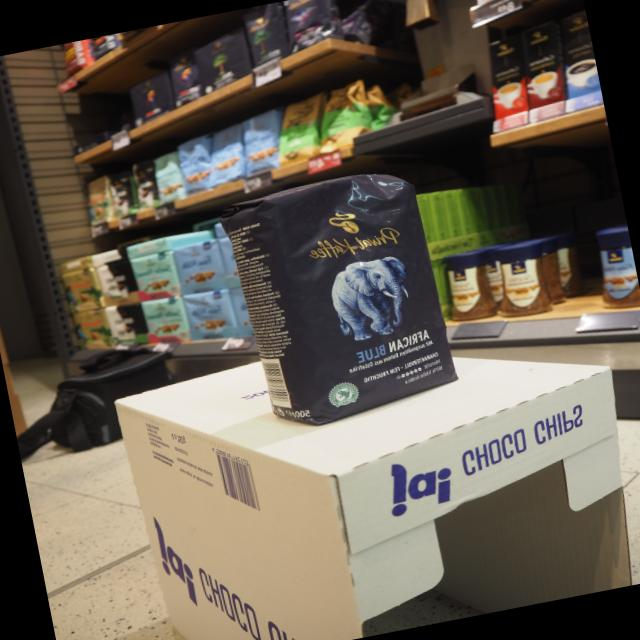AB Bohne: (213, 154, 466, 444)
